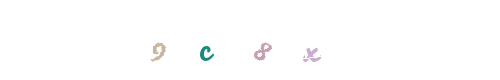8: (210, 0, 290, 80)
9: (165, 0, 245, 80)
C: (172, 0, 252, 80)
X: (233, 0, 313, 80)
